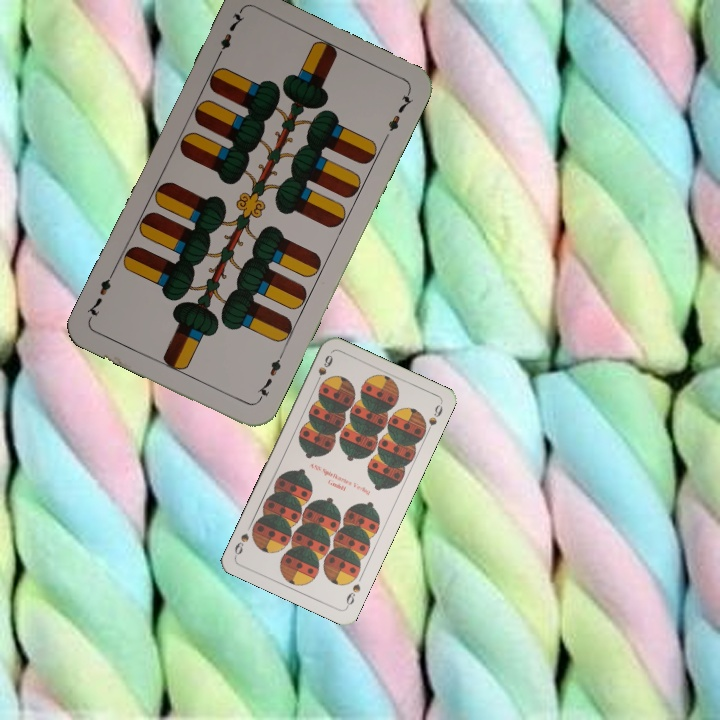E7: (252, 350, 286, 405), (212, 7, 246, 62)
S9: (311, 351, 336, 388), (342, 580, 363, 610)
